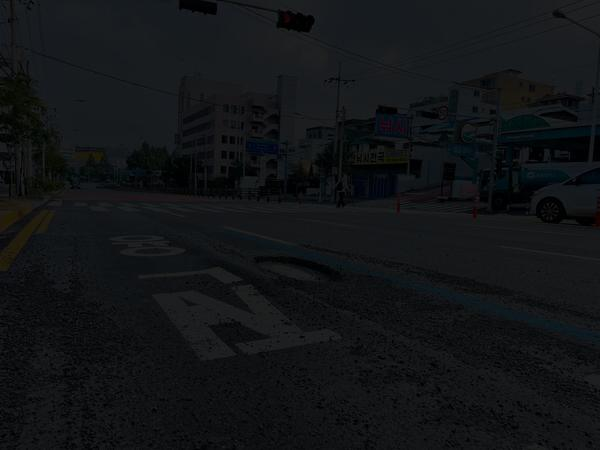pothole: (247, 235, 351, 295)
